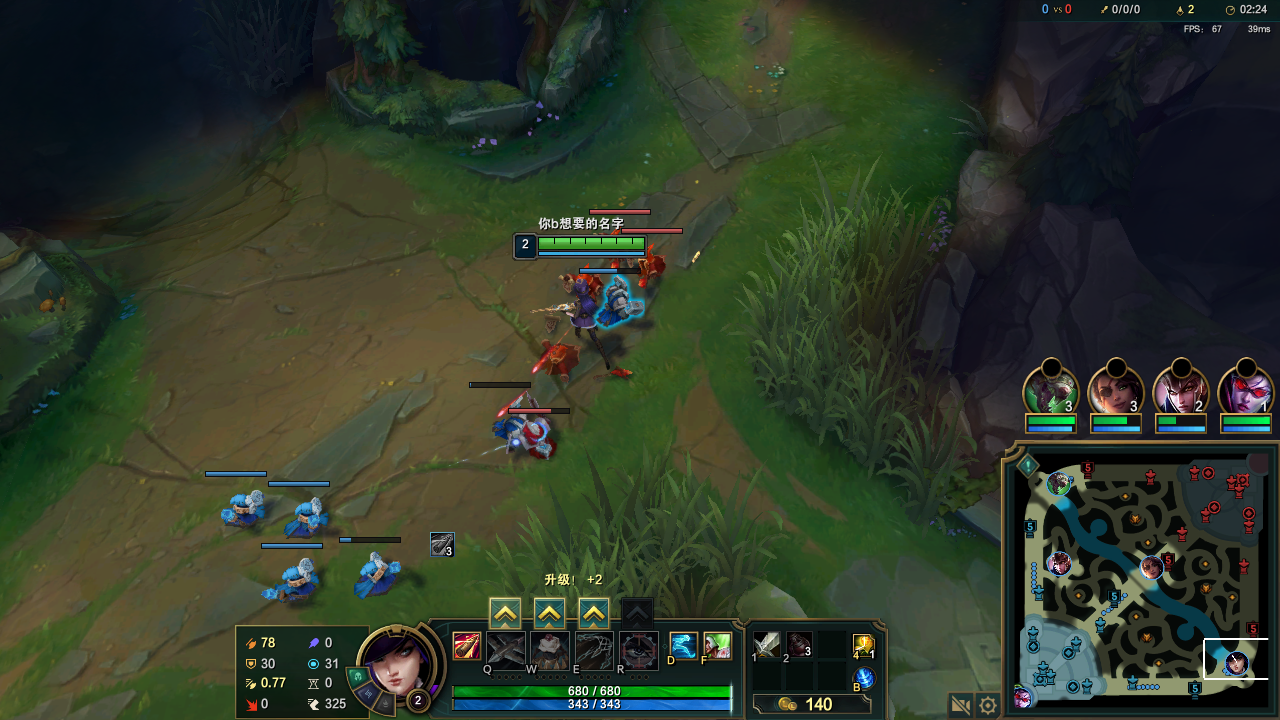DFXB: (518, 422, 548, 456), (635, 245, 663, 279)
Shenji: (582, 601, 605, 631), (539, 605, 560, 631), (493, 604, 513, 628)
WFXB: (260, 557, 318, 597), (354, 552, 399, 594), (284, 498, 330, 536), (223, 488, 266, 524), (599, 284, 629, 322), (496, 417, 520, 437)
Yita: (1188, 677, 1203, 697)
